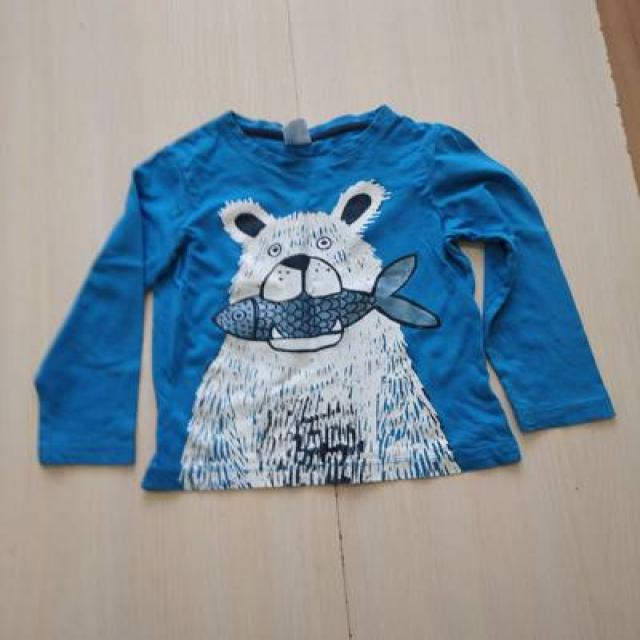Clothes -Biodegradable-: (32, 105, 616, 497)
